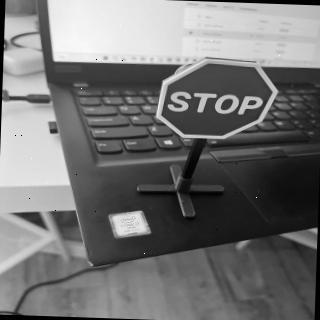sign_stop: (156, 57, 282, 143)
